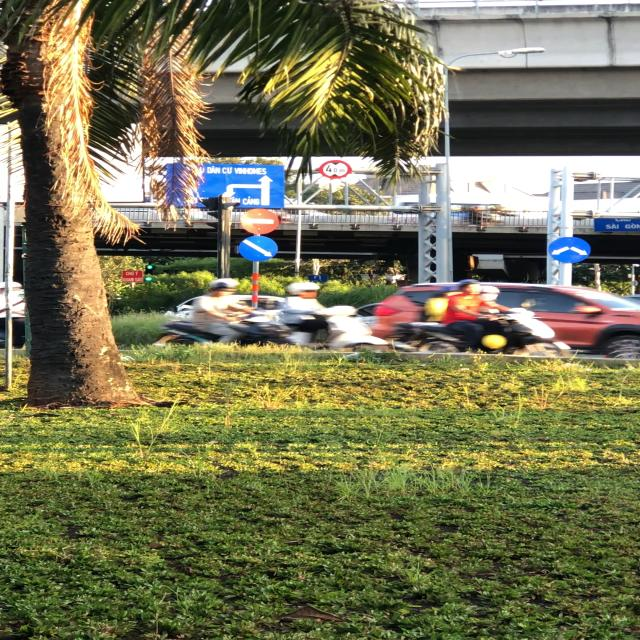Bien bao cam di nguoc chieu: (239, 205, 288, 237)
Bien bao han che chieu cao: (318, 158, 360, 182)
Bien bao huong phai di vong chuong ngai vat: (545, 233, 596, 266), (236, 234, 287, 264)
